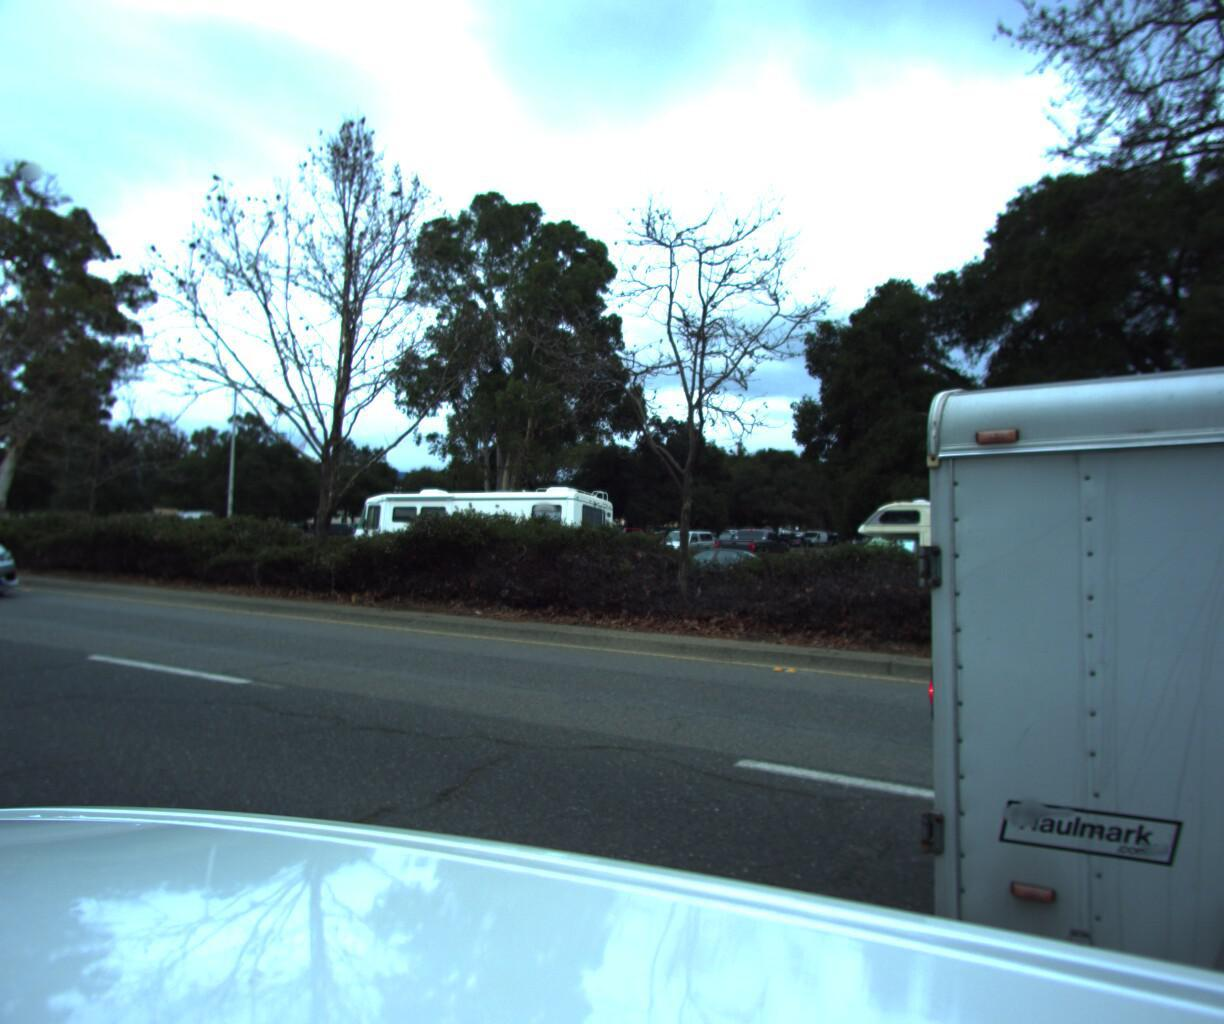car: (645, 540, 789, 592), (0, 505, 26, 608)
other_vehicle: (830, 475, 1187, 619), (339, 478, 624, 586)
